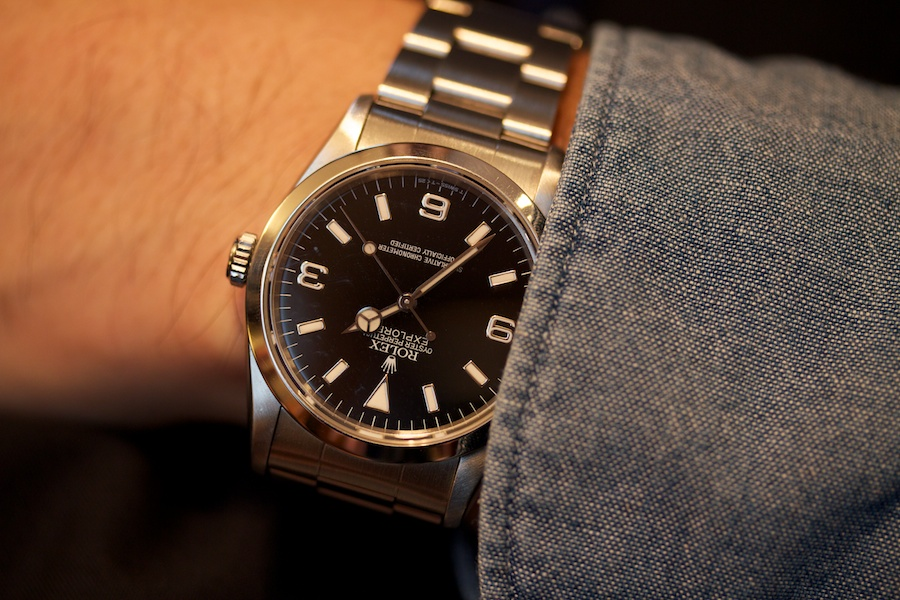clock: (270, 170, 537, 432)
